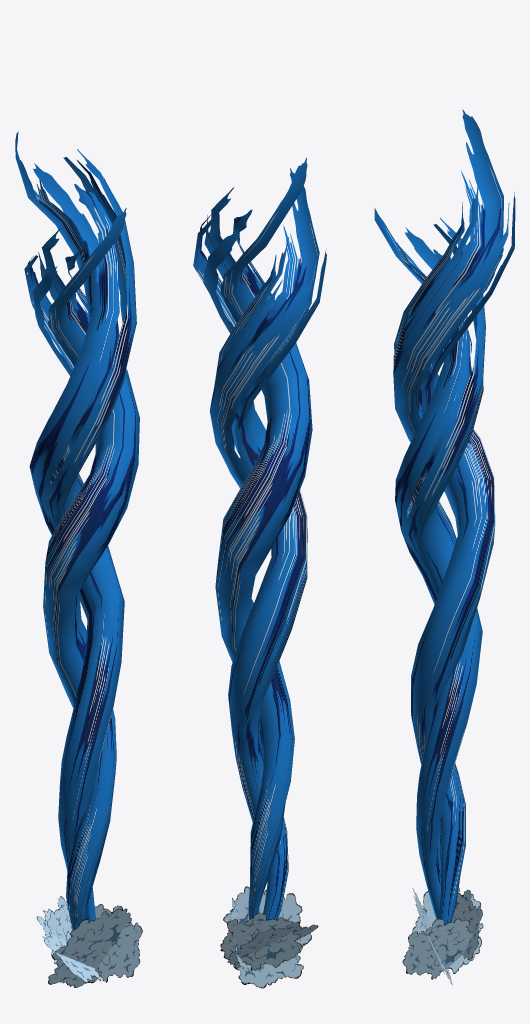
The model's file is Water8_0.fbx.
3 renders of one model, left to right at view 1: azimuth 30°, elevation 25°; view 2: azimuth 150°, elevation 25°; view 3: azimuth 270°, elevation 25°, orthographic. The views are drawn at different scales.
Visible parts, largest first — view 1: SM_e_Skl_Wa_8Tak_Unique002; view 2: SM_e_Skl_Wa_8Tak_Unique002; view 3: SM_e_Skl_Wa_8Tak_Unique002.
Boxes of the visible parts, bbox=[...] form: SM_e_Skl_Wa_8Tak_Unique002: bbox=[15, 130, 142, 987]; SM_e_Skl_Wa_8Tak_Unique002: bbox=[193, 157, 326, 988]; SM_e_Skl_Wa_8Tak_Unique002: bbox=[374, 109, 515, 984].
Size of the model in its own units: 3.4 by 26.79 by 3.53.
